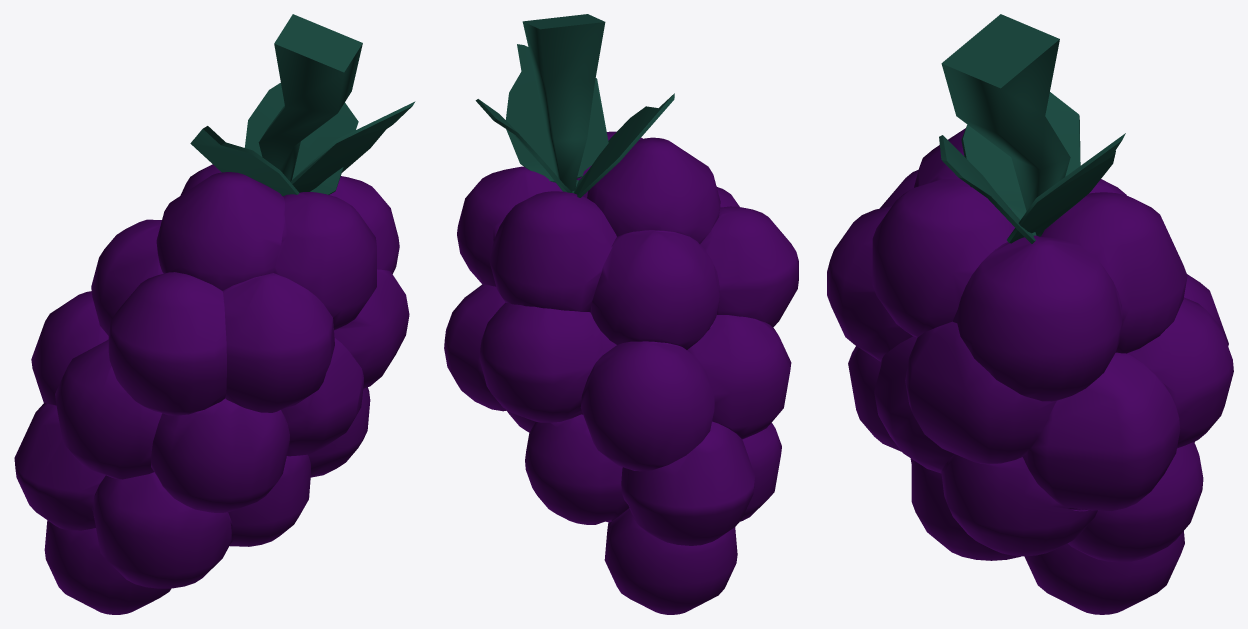
Rendered from grapes.fbx.
3 views of the same model, side by side, from view 1: azimuth 30°, elevation 25°; view 2: azimuth 150°, elevation 25°; view 3: azimuth 270°, elevation 25° (orthographic). The views are drawn at different scales.
Visible parts, largest first — view 1: grapes; view 2: grapes; view 3: grapes.
Boxes of the visible parts, <box> form: grapes: <box>14,14,415,614</box>; grapes: <box>444,14,798,614</box>; grapes: <box>827,14,1233,614</box>.
Bounding box in the file's own units: 31.42 × 51.19 × 28.68.
